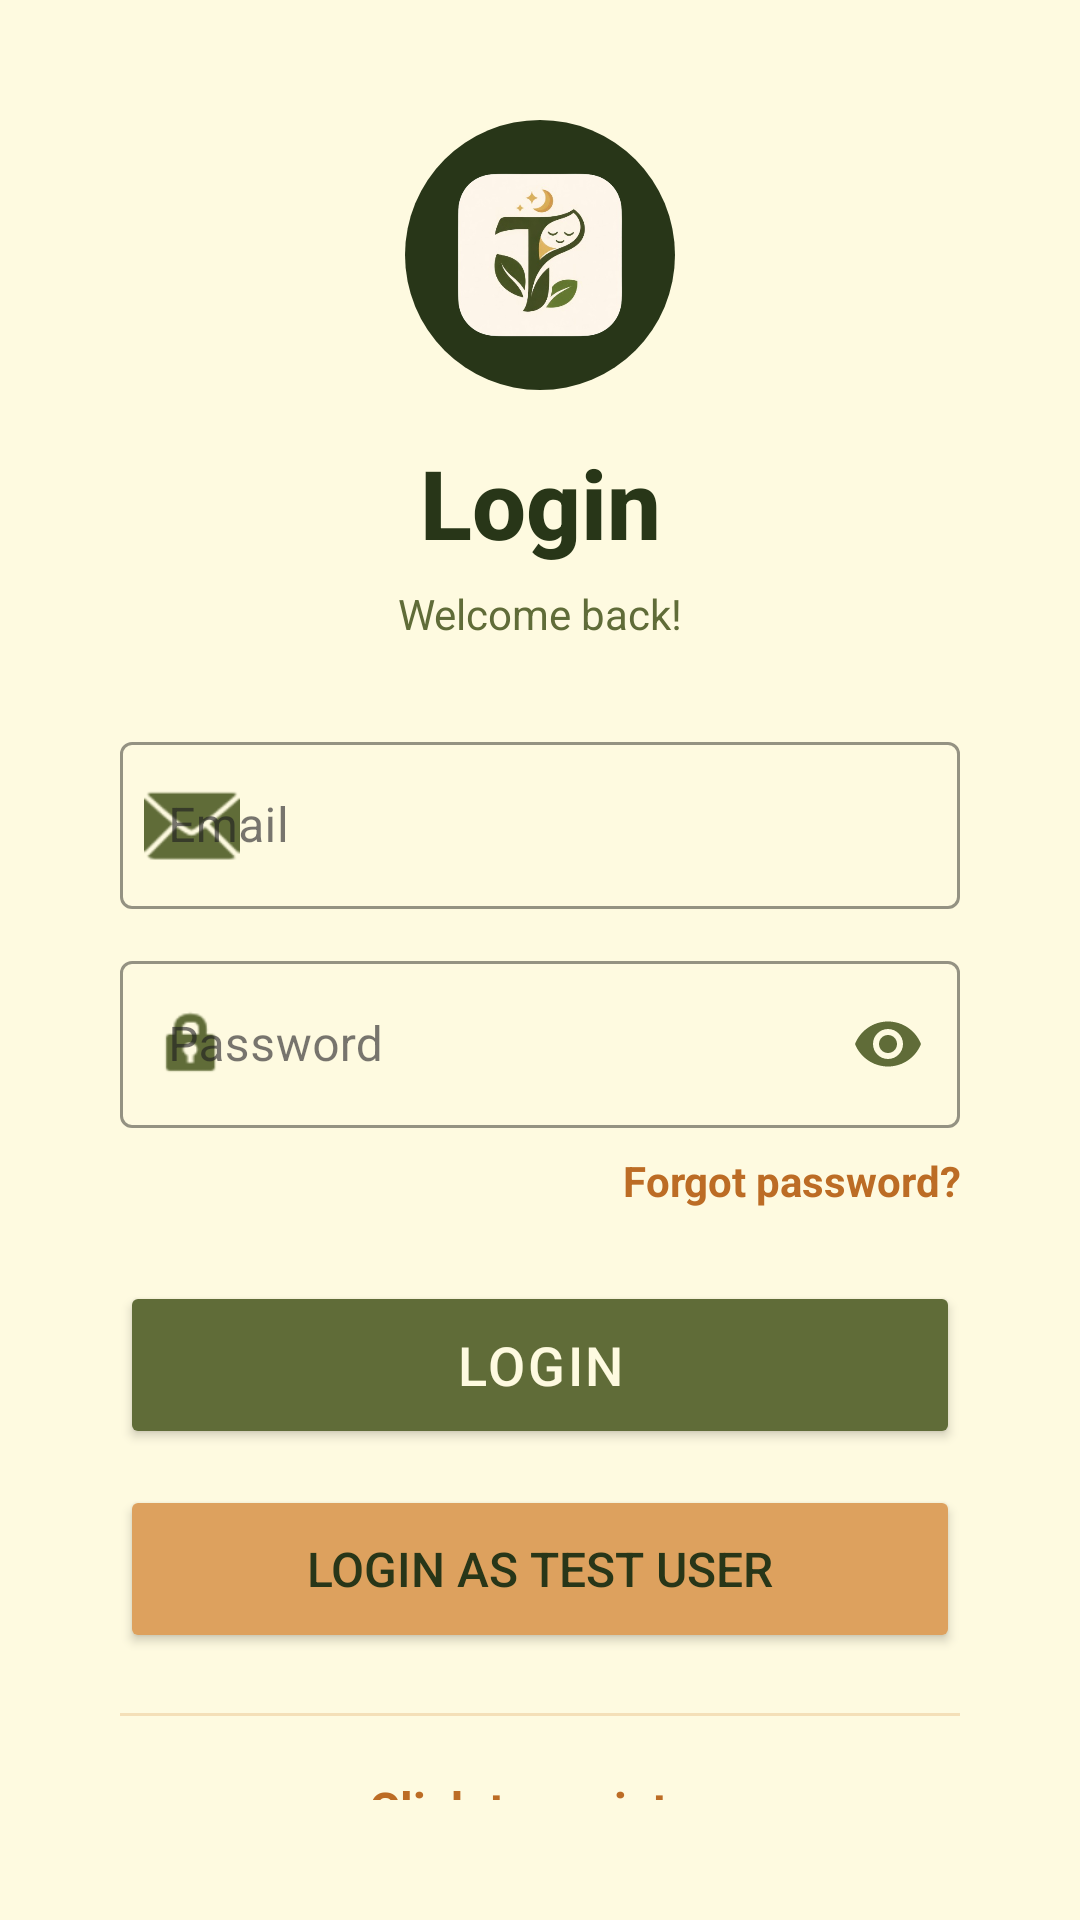

Point at icon controls on the screen. Image size 1080px×1920px, points as [x,y].
tranquilo: [540,255]
